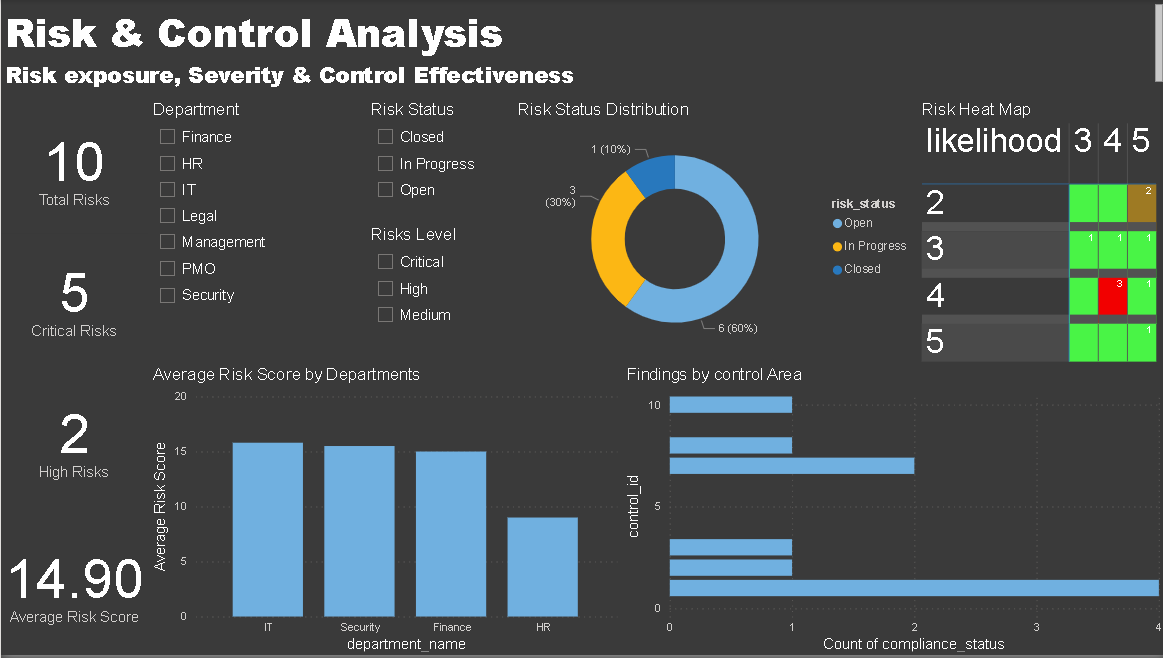

The dashboard page shown, as its layout file describes it:
{"tool":"powerbi","page":{"name":"Risk & Control Analysis","canvas":[1280,720],"ordinal":1},"visuals":[{"type":"card","fields":{"Values":["Fact_Risk_Register.Total Risks"]},"box":[0,106.8,161.4,149.5],"z":0},{"type":"card","fields":{"Values":["Fact_Risk_Register.High Risks"]},"box":[0,401,161.4,159],"z":1000},{"type":"card","fields":{"Values":["Fact_Risk_Register.Average Risk Score"]},"box":[0,560,161.4,160.2],"z":2000},{"type":"card","fields":{"Values":["Fact_Risk_Register.Critical Risks"]},"box":[0,256.3,161.4,137.6],"z":3000},{"type":"textbox","box":[0,0,1280.2,106.8],"z":4000},{"type":"donutChart","title":"Risk Status Distribution","fields":{"Category":["Fact_Risk_Register.risk_status"],"Y":["CountNonNull(Fact_Risk_Register.risk_id)"]},"box":[562.4,109.2,443.8,284.8],"z":5000},{"type":"columnChart","title":"Average Risk Score  by Departments","fields":{"Category":["Dim_Department.department_name"],"Y":["Fact_Risk_Register.Average Risk Score"]},"box":[161.9,400.7,520.1,319.7],"z":6000},{"type":"pivotTable","title":"Risk Heat Map","fields":{"Rows":["Fact_Risk_Register.likelihood"],"Columns":["Fact_Risk_Register.impact"],"Values":["CountNonNull(Fact_Risk_Register.risk_id)"]},"box":[1006.2,109.2,274.1,291.9],"z":7000},{"type":"barChart","title":"Findings by control Area","fields":{"Y":["CountNonNull(Fact_Asset_Control.compliance_status)"],"Category":["Fact_Asset_Control.control_id"]},"box":[682,400.7,598.3,319.7],"z":8000},{"type":"slicer","title":"Department","fields":{"Values":["Dim_Department.department_name"]},"box":[161.4,109.2,239.7,284.8],"z":9000},{"type":"slicer","title":"Risk Status","fields":{"Values":["Fact_Risk_Register.risk_status"]},"box":[401,109.2,161.4,147.1],"z":10000},{"type":"slicer","title":"Risks Level","fields":{"Values":["Fact_Risk_Register.risk_level"]},"box":[401,246.8,161.4,147.1],"z":11000}]}

Visuals, with their boxes in screenshot pixels (x1, y1, x2, y2), scaled from the page's 1280x720 canvas onto the 1163x658 screenshot:
card - Fact_Risk_Register.Total Risks: region(0, 98, 147, 234)
card - Fact_Risk_Register.High Risks: region(0, 366, 147, 512)
card - Fact_Risk_Register.Average Risk Score: region(0, 512, 147, 657)
card - Fact_Risk_Register.Critical Risks: region(0, 234, 147, 360)
textbox: region(0, 0, 1162, 98)
"Risk Status Distribution" donutChart: region(511, 100, 914, 360)
"Average Risk Score  by Departments" columnChart: region(147, 366, 620, 657)
"Risk Heat Map" pivotTable: region(914, 100, 1162, 367)
"Findings by control Area" barChart: region(620, 366, 1162, 657)
"Department" slicer: region(147, 100, 364, 360)
"Risk Status" slicer: region(364, 100, 511, 234)
"Risks Level" slicer: region(364, 226, 511, 360)
